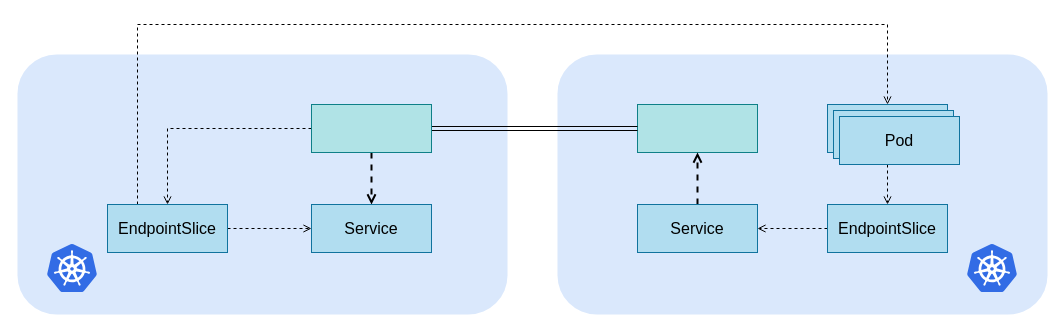
Some shapes in this 1064 by 332 pixel diagram are drawn without their labels. Here are the shapes that lost their labels. From the top down, the centre of each, then its label:
At (x=371, y=128): "ServiceImport".
At (x=697, y=128): "ServiceExport".
